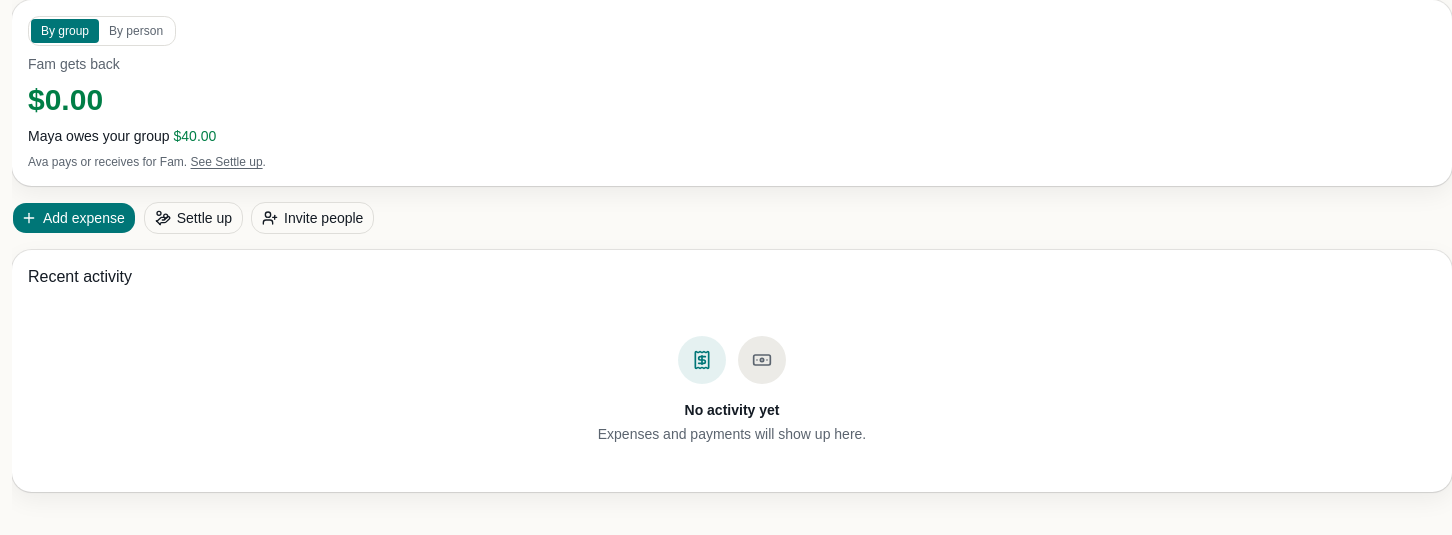
hero view toggle › switching to By person shows the person lines
The image size is (1452, 535).
Click the radio button labelled "By person" at [136, 31], box [99, 19, 173, 43]
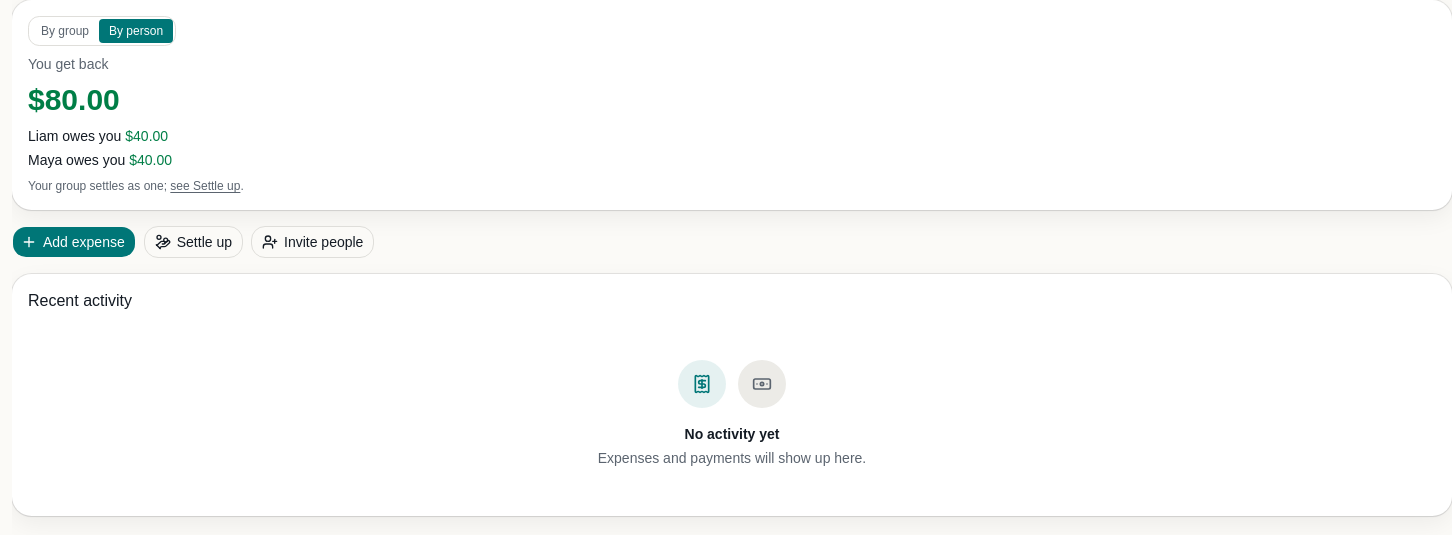
Expected: the text "You get back" is shown, [28, 56, 108, 72]
Expected: the list item "Liam owes you $40.00" is shown, [28, 128, 168, 144]
Expected: the text "Your group settles as one; see Settle up ." is shown, [28, 179, 244, 193]
